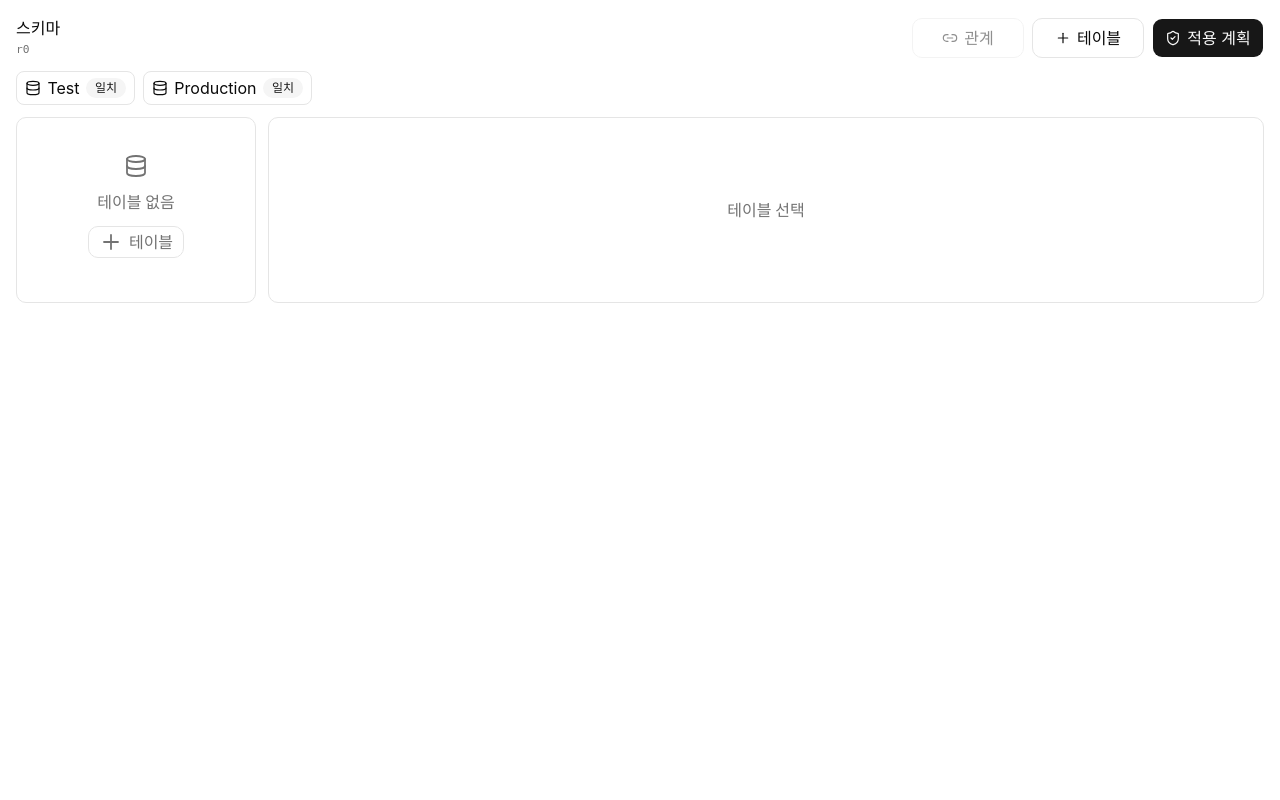
Test: DatabaseDesigner › loads the isolated runtime state and creates a server-owned Table from a GUI form
This screenshot has width=1280, height=800.
Expected: the text "테이블 없음" is shown, [97,190,175,214]
Click the button "테이블" in the row of "스키마" at {"x": 1088, "y": 38}, box [1032,18,1144,58]
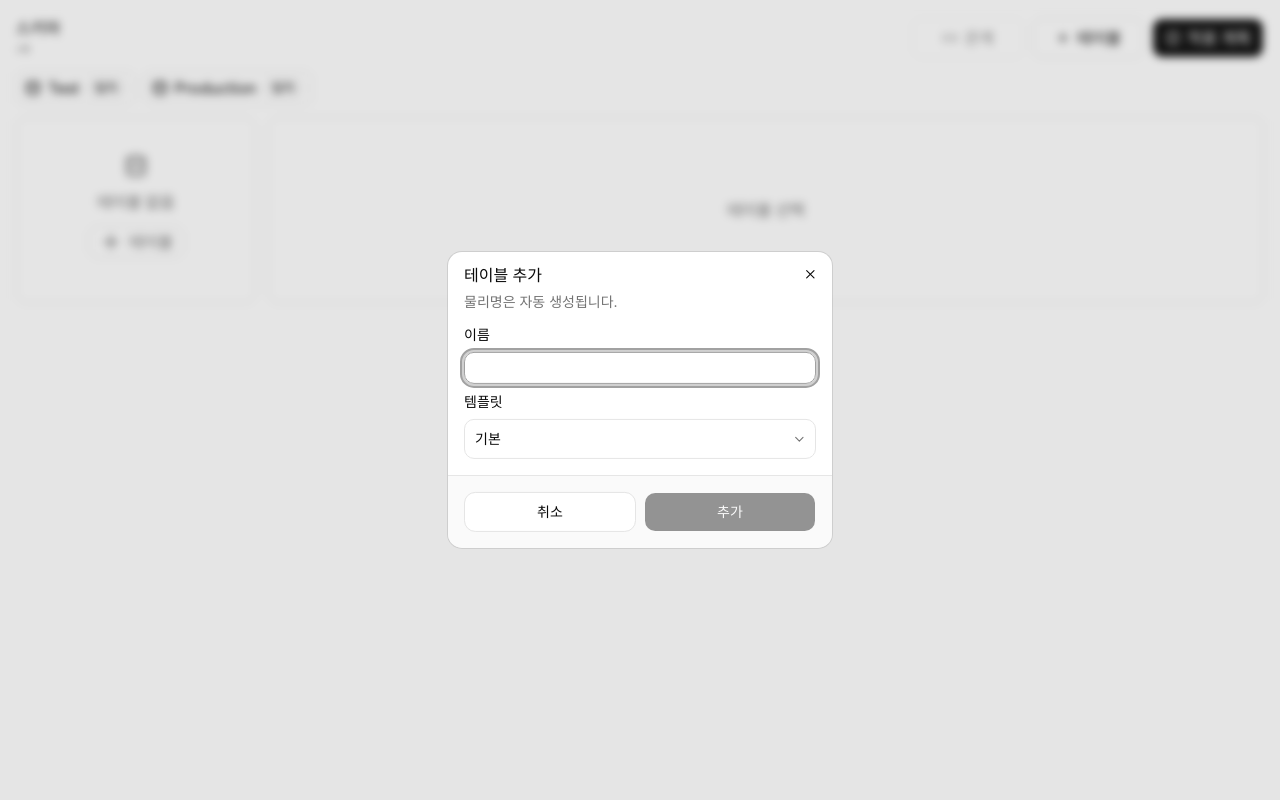
Type "환자" into the field labelled "이름" at {"x": 640, "y": 368}, box [464,352,816,384]
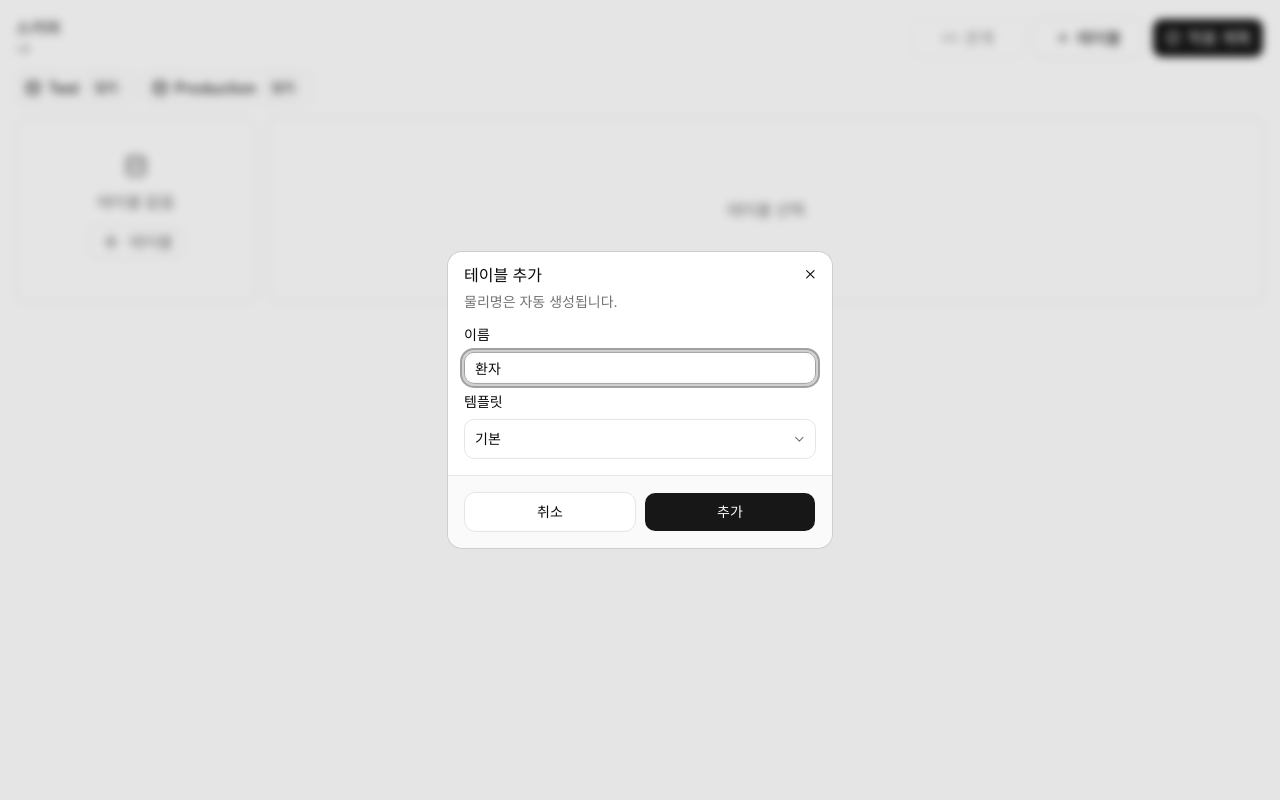
Click the button "추가" at {"x": 730, "y": 512}, box [644,492,816,532]
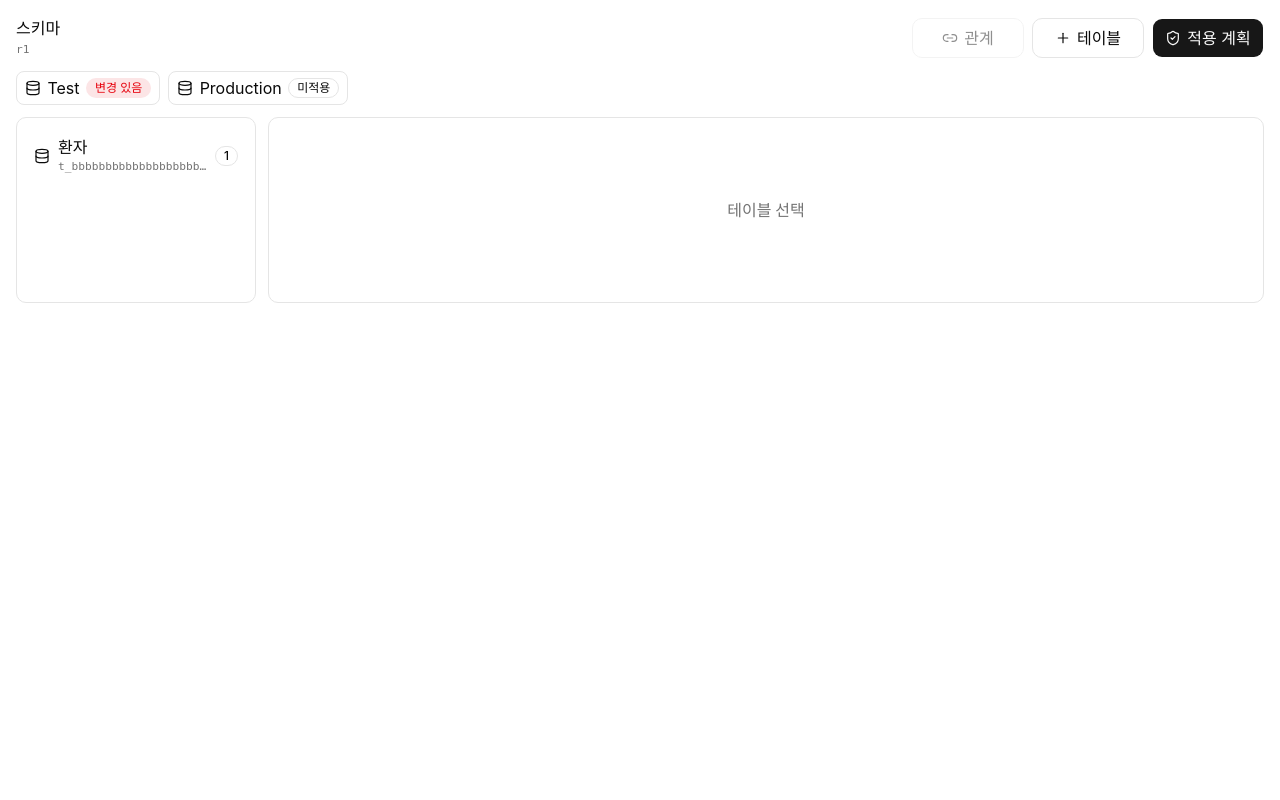
Expected: the option "환자" is shown, [25,126,247,185]
